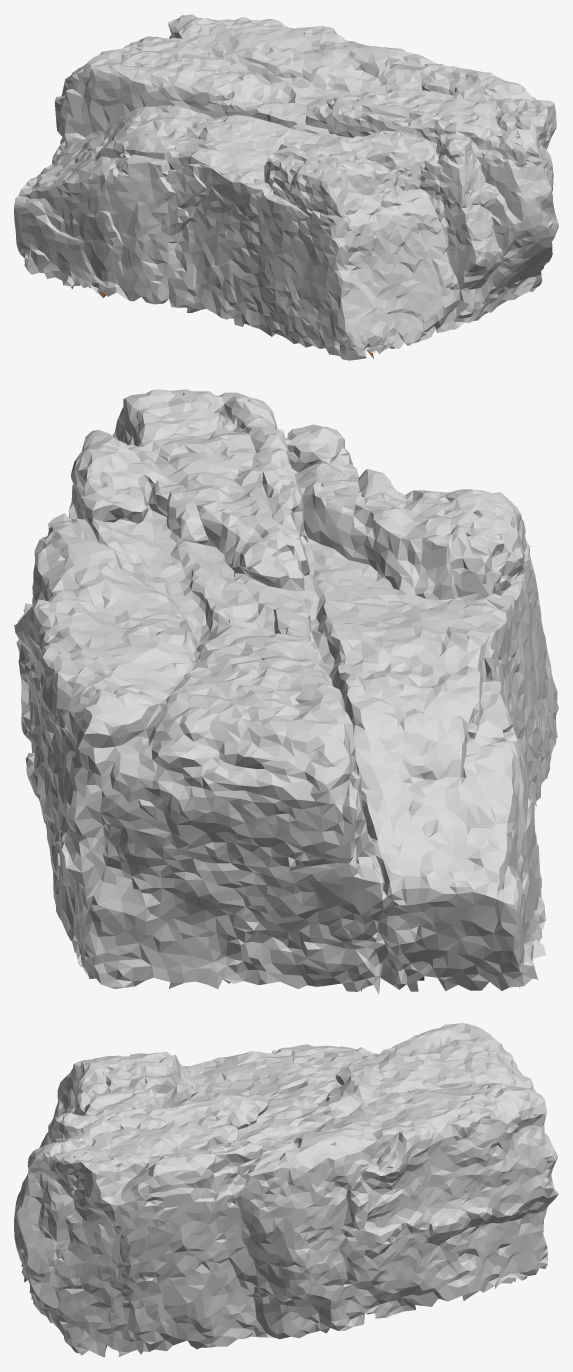
3 views of the same model, one above another, from view 1: azimuth 30°, elevation 25°; view 2: azimuth 150°, elevation 25°; view 3: azimuth 270°, elevation 25° (orthographic). The views are drawn at different scales.
Visible parts, largest first — view 1: shareModel.001; view 2: shareModel.001; view 3: shareModel.001.
Boxes of the visible parts, bbox=[...] form: shareModel.001: bbox=[14, 14, 558, 360]; shareModel.001: bbox=[14, 389, 558, 993]; shareModel.001: bbox=[14, 1023, 558, 1357].
Size of the model in its own units: 0.8617 by 0.3824 by 0.9104.
2 materials, 1 textured.
